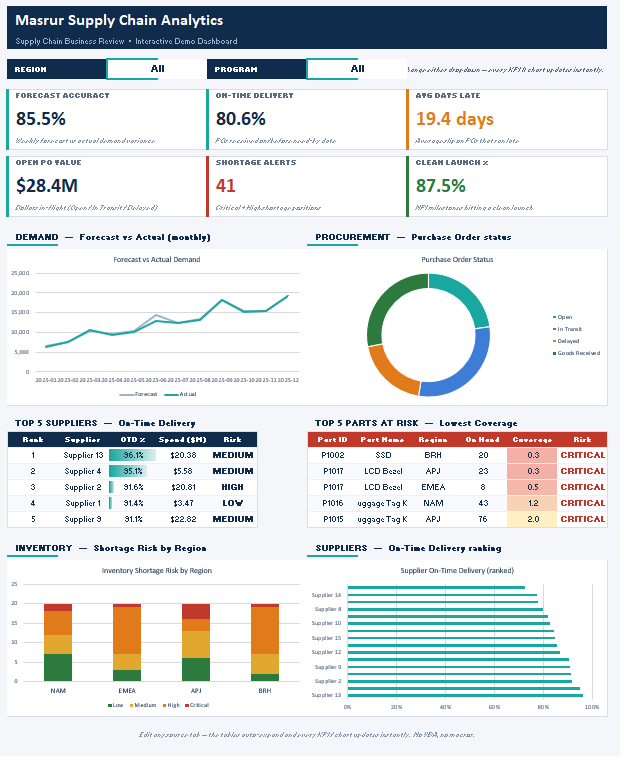

This screenshot's page, from the dashboard's own definition file:
{"tool":"powerbi","page":{"name":"Dashboard","canvas":[1280,720],"ordinal":0},"visuals":[{"type":"textbox","box":[0,0,1280.4,76.3],"z":0},{"type":"cardVisual","fields":{"Data":["tblSuppliers.Total Spend ($M)"]},"box":[42.9,103.1,256,64.4],"z":1000,"group":"g3"},{"type":"pivotTable","title":"Coverage Weeks · Part × Region- ","fields":{"Rows":["tblParts.Part_Name"],"Columns":["tblInventory.Region"],"Values":["Min(tblInventory.Coverage_Weeks)"]},"box":[891.1,215,342.3,271.3],"z":1000},{"type":"lineStackedColumnComboChart","title":"Top 16 suppliers by FY spend · cumulative % line","fields":{"Category":["tblSuppliers.Supplier"],"Y":["Sum(tblSuppliers.Total_Spend_USD_M)"],"Y2":["tblSuppliers.Cumulative Spend %"]},"box":[43.8,260.9,818,193],"z":1000,"group":"g1"},{"type":"textbox","box":[42.9,78.6,256,33.5],"z":2000,"group":"g3"},{"type":"textbox","box":[43.8,215,818,45.9],"z":2000,"group":"g1"},{"type":"lineStackedColumnComboChart","fields":{"Category":["tblPOs.PO_Date.Variation.Date Hierarchy.Month"],"Y":["tblPOs.On-Time Delivery %"],"Y2":["CountNonNull(tblPOs.PO_Number)"]},"box":[784.7,486.3,448.7,215],"z":2000},{"type":"textbox","box":[42.9,167.5,256,42.5],"z":3000,"group":"g3"},{"type":"textbox","box":[43.8,438.1,818,44.3],"z":3000,"group":"g1"},{"type":"columnChart","title":"SHORTAGE: Forecast                                       ≈ 45% of forecast · weeks 22 onward","fields":{"Category":["tblDemand.Week"],"Y":["Sum(tblDemand.Actual_Demand)","Sum(tblDemand.Forecast_Qty)"]},"box":[45.7,485.7,714.3,215.7],"z":3000},{"type":"cardVisual","fields":{"Data":["tblPOs.On-Time Delivery %"]},"box":[354.4,103.1,256,64.4],"z":4000,"group":"g4"},{"type":"cardVisual","fields":{"Data":["tblInventory.Critical SKU-Regions"]},"box":[665.8,103.2,256,64.4],"z":4000,"group":"g5"},{"type":"group","id":"g1","title":"Group 5","box":[43.8,215,818.1,267.1],"z":4000},{"type":"group","id":"g2","title":"Group 7","box":[42.9,78.6,1190,131.4],"z":5000},{"type":"group","id":"g3","title":"Group 1","box":[42.9,78.6,256,131.4],"z":5000,"group":"g2"},{"type":"textbox","box":[354.4,78.6,256,33.5],"z":5000,"group":"g4"},{"type":"textbox","box":[665.8,78.7,256,33.5],"z":5000,"group":"g5"},{"type":"slicer","fields":{"Values":["tblSuppliers.Risk_Rating"]},"box":[561.5,6.4,182.9,66.8],"z":6000},{"type":"group","id":"g4","title":"Group 2","box":[354.4,78.6,256,131.4],"z":6000,"group":"g2"},{"type":"group","id":"g5","title":"Group 2","box":[665.8,78.7,255.5,131.3],"z":6000},{"type":"textbox","box":[354.4,167.5,256,42.5],"z":6000,"group":"g4"},{"type":"textbox","box":[665.8,167.6,256,42.5],"z":6000,"group":"g5"},{"type":"textbox","box":[976.9,78.6,256,33.5],"z":8000,"group":"g7"},{"type":"group","id":"g6","title":"Group 4","box":[976.9,105,255.4,105],"z":9000,"group":"g7"},{"type":"group","id":"g7","title":"Group 6","box":[976.9,78.6,256,131.4],"z":10001,"group":"g2"},{"type":"cardVisual","fields":{"Data":["tblNPI.Clean-Launch Rate"]},"box":[976.9,105,255.4,62.4],"z":11000,"group":"g6"},{"type":"textbox","box":[976.9,168,255.4,42],"z":13000,"group":"g6"}]}

Visuals, with their boxes on the page's 1280x720 design canvas (x1, y1, x2, y2). These are canvas units, not pixel positions in the 628x763 screenshot, which may show the page scaled, cropped or inside an application window:
textbox: 0 0 1280 76
cardVisual - tblSuppliers.Total Spend ($M): 43 103 299 168
"Coverage Weeks · Part × Region- " pivotTable: 891 215 1233 486
"Top 16 suppliers by FY spend · cumulative % line" lineStackedColumnComboChart: 44 261 862 454
textbox: 43 79 299 112
textbox: 44 215 862 261
lineStackedColumnComboChart - tblPOs.PO_Date.Variation.Date Hierarchy.Month x tblPOs.On-Time Delivery %: 785 486 1233 701
textbox: 43 168 299 210
textbox: 44 438 862 482
"SHORTAGE: Forecast                                       ≈ 45% of forecast · weeks 22 onward" columnChart: 46 486 760 701
cardVisual - tblPOs.On-Time Delivery %: 354 103 610 168
cardVisual - tblInventory.Critical SKU-Regions: 666 103 922 168
"Group 5" group: 44 215 862 482
"Group 7" group: 43 79 1233 210
"Group 1" group: 43 79 299 210
textbox: 354 79 610 112
textbox: 666 79 922 112
slicer - tblSuppliers.Risk_Rating: 562 6 744 73
"Group 2" group: 354 79 610 210
"Group 2" group: 666 79 921 210
textbox: 354 168 610 210
textbox: 666 168 922 210
textbox: 977 79 1233 112
"Group 4" group: 977 105 1232 210
"Group 6" group: 977 79 1233 210
cardVisual - tblNPI.Clean-Launch Rate: 977 105 1232 167
textbox: 977 168 1232 210
